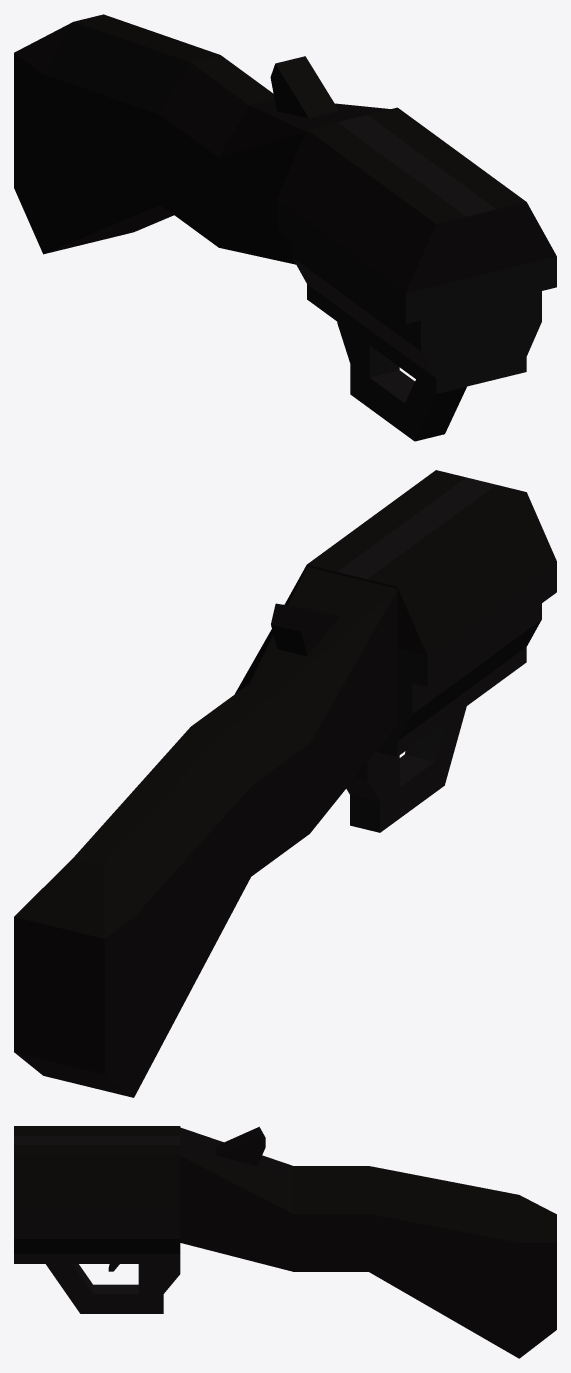
The model's file is double-barreled_shotgun_back.fbx.
The picture shows the model from 3 angles, top to bottom: view 1: azimuth 30°, elevation 25°; view 2: azimuth 150°, elevation 25°; view 3: azimuth 270°, elevation 25°; orthographic projection. The views are drawn at different scales.
Parts seen in each view (by area): view 1: mergedBlocks; view 2: mergedBlocks; view 3: mergedBlocks.
Part boxes in pixels (box(x1,y1,x2,y2)): mergedBlocks: box(14, 14, 556, 441); mergedBlocks: box(14, 470, 556, 1097); mergedBlocks: box(14, 1126, 556, 1358).
Bounding box in the file's own units: 4.05 × 8.49 × 19.6.
Materials: 1 (1 with a texture image).
